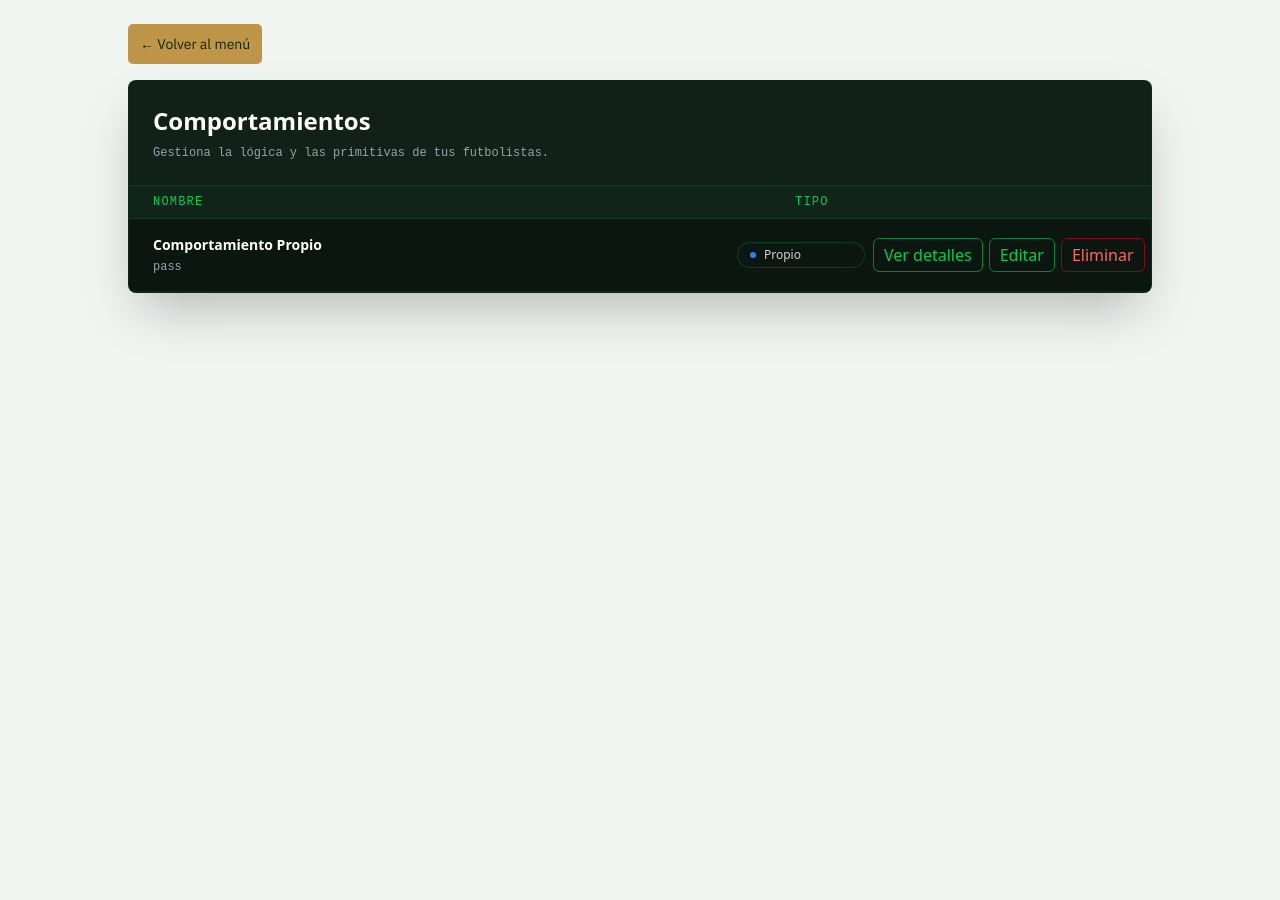
Test: BehaviorPage › Debe mostrar el modal de confirmación al hacer clic en eliminar en un comportamiento propio
Expected: the heading "Comportamiento Propio" is shown, [153,235,322,254]
Click the button "Eliminar".
click(1103, 255)  # box [1061,238,1145,272]
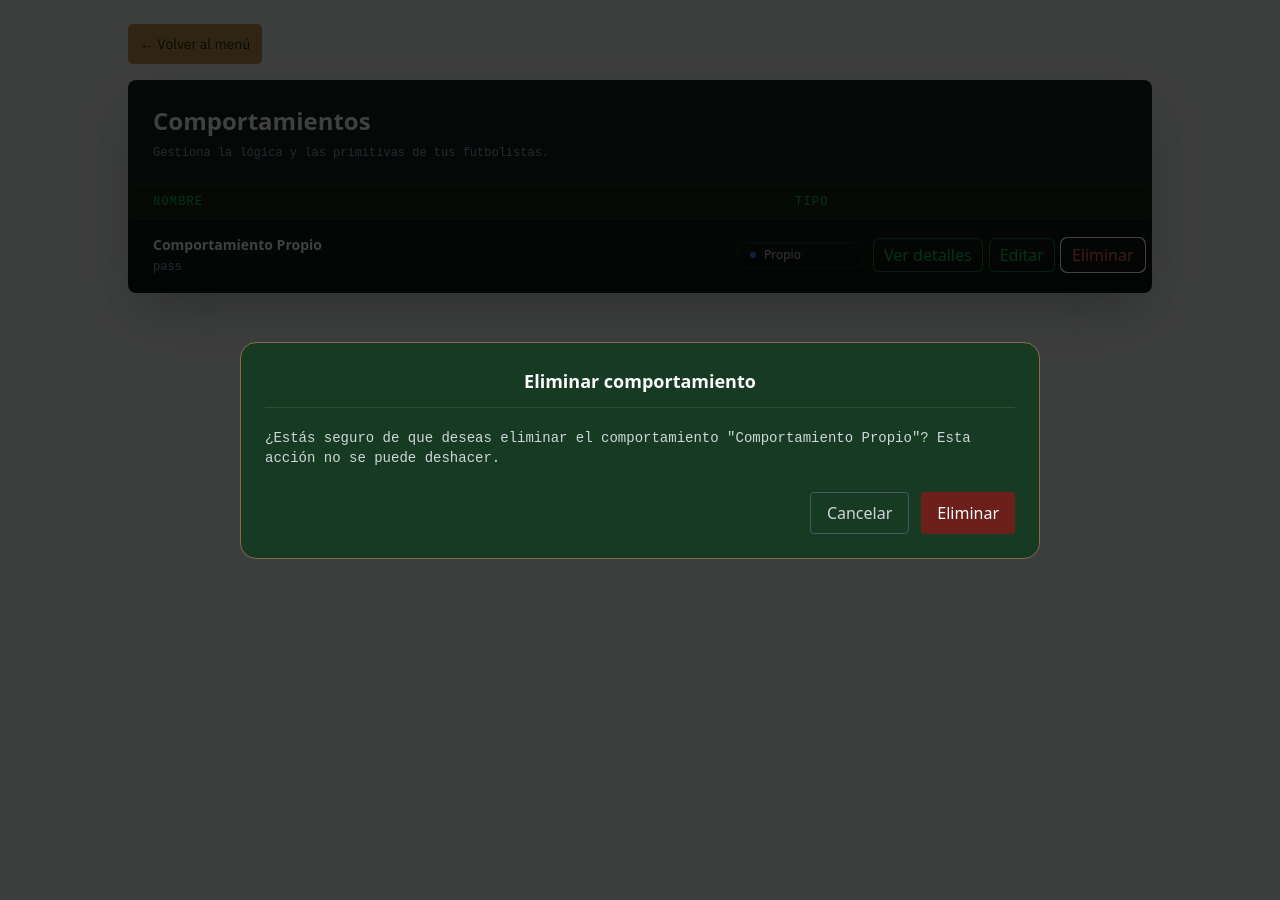
Expected: the dialog is shown, [240,342,1040,558]
Expected: the text "¿Estás seguro" is shown, [265,430,971,466]
Expected: the button "Eliminar" is shown, [921,492,1015,534]
